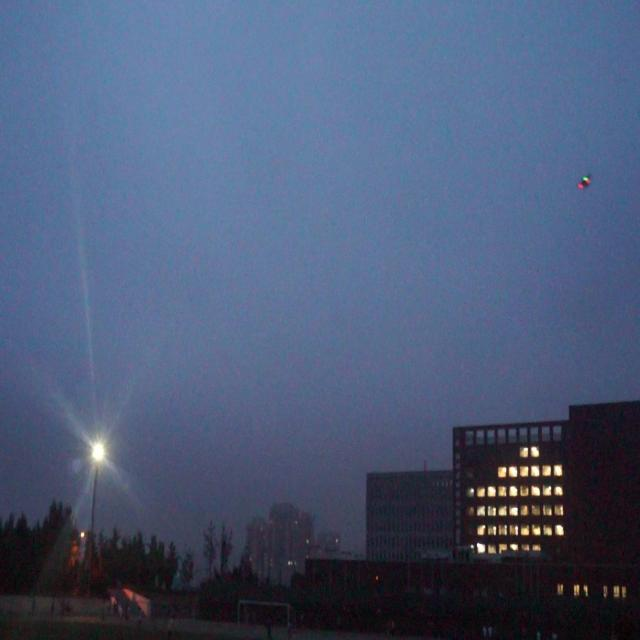UAV: (578, 174, 590, 189)
